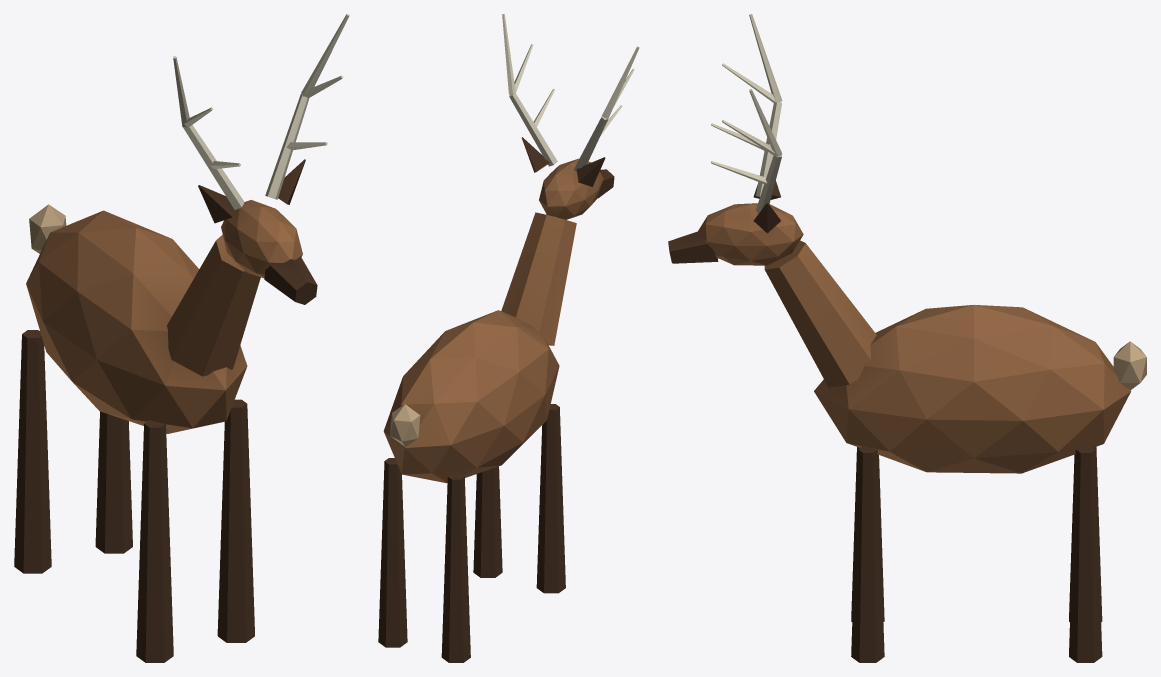
File: Deer.fbx
3 views of the same model, side by side, from view 1: azimuth 30°, elevation 25°; view 2: azimuth 150°, elevation 25°; view 3: azimuth 270°, elevation 25° (orthographic). The views are drawn at different scales.
Parts seen in each view (by area): view 1: Deer, LegBR.001, LegFR.001, LegFL.001, LegBL.001; view 2: Deer, LegBR.001, LegBL.001, LegFR.001, LegFL.001; view 3: Deer, LegBL.001, LegFL.001.
Part boxes in pixels (box(x1,y1,x2,y2)): Deer: box(26, 14, 349, 433); LegBR.001: box(14, 330, 51, 573); LegFR.001: box(136, 420, 173, 662); LegFL.001: box(217, 399, 254, 642); LegBL.001: box(95, 411, 132, 553); Deer: box(383, 14, 639, 483); LegBR.001: box(441, 473, 470, 662); LegBL.001: box(378, 458, 407, 647); LegFR.001: box(536, 404, 565, 593); LegFL.001: box(473, 466, 502, 577); Deer: box(668, 14, 1146, 473); LegBL.001: box(1069, 446, 1102, 662); LegFL.001: box(851, 446, 884, 662).
Size of the model in its own units: 0.6512 by 2.32 by 1.72.
